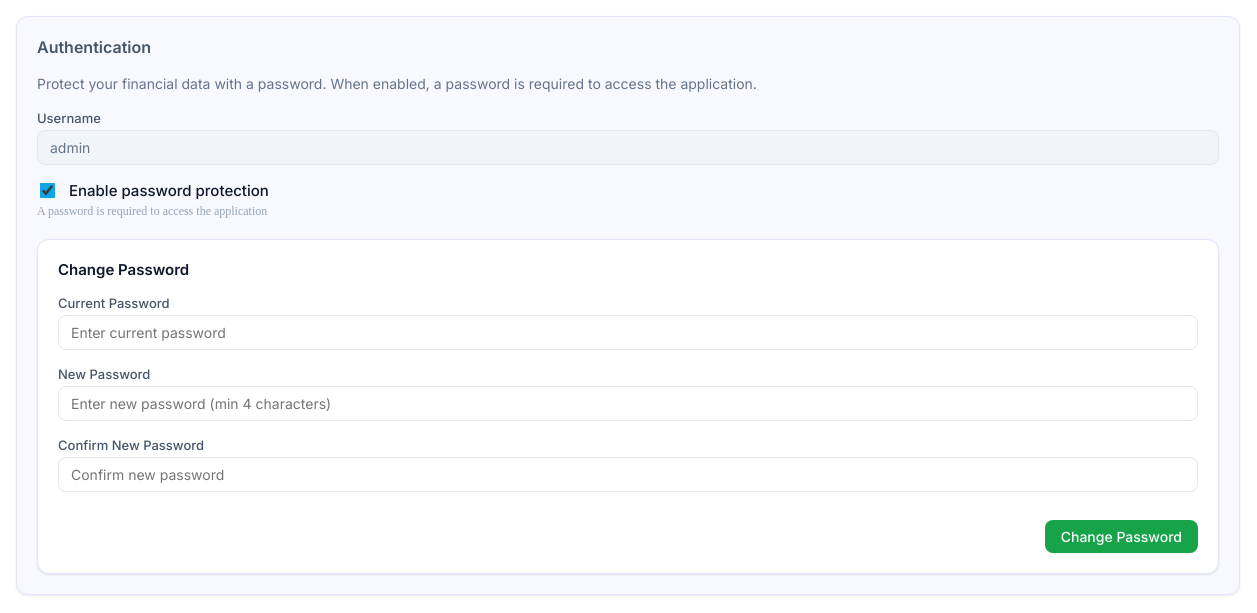
it: SecuritySettings › Disable authentication (Password_Gate → Open_Mode) › should show disable form when toggle is unchecked
Click the checkbox named "Enable authentication" at (48, 190), box [40,183,55,198]
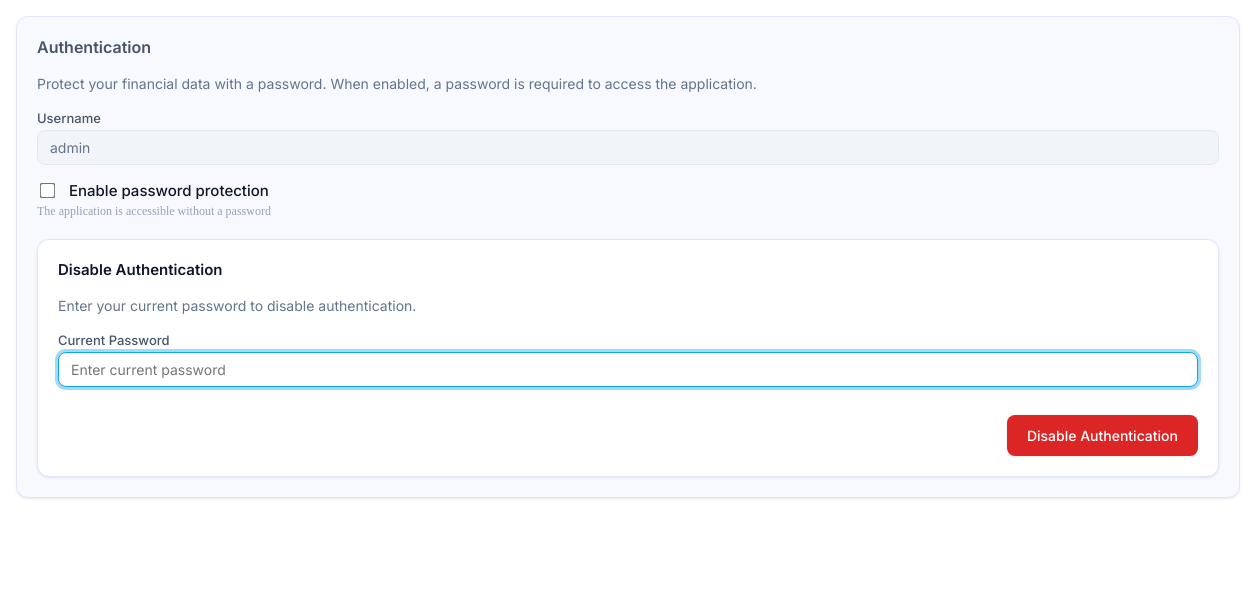
Now the password field labelled "Current Password" is shown, box [58,352,1198,387]
